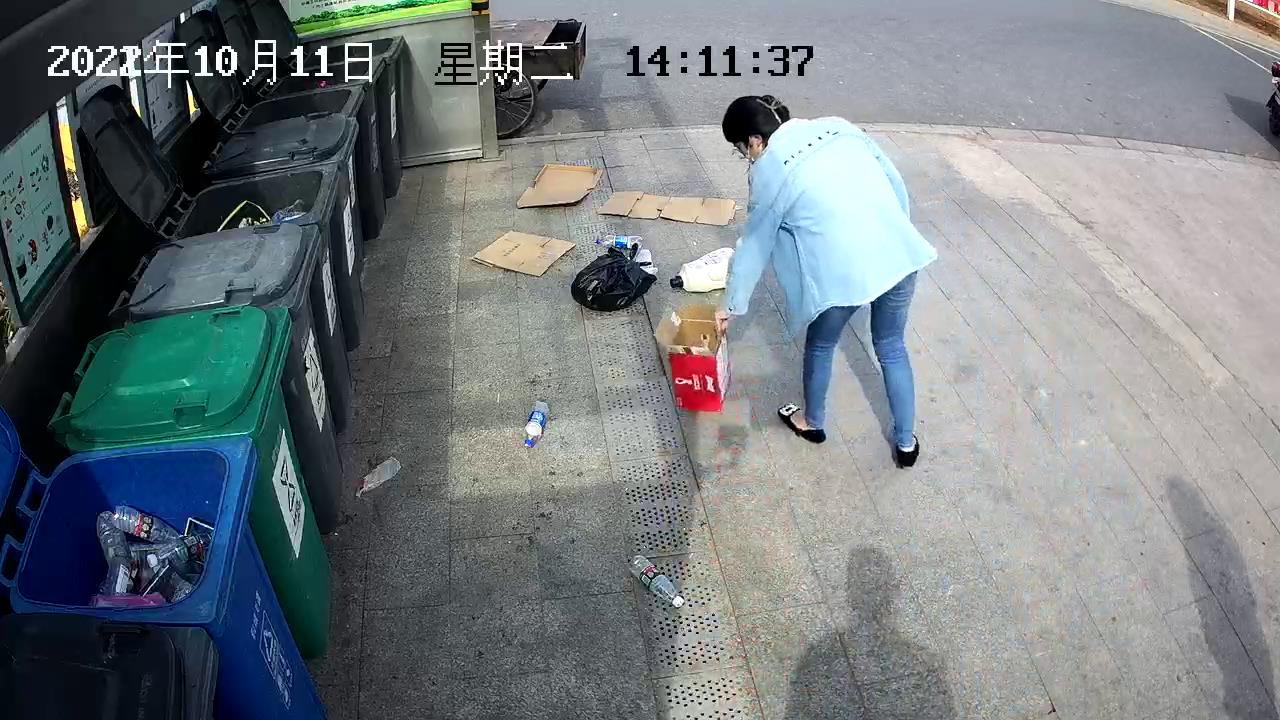garbage-bag: (569, 242, 660, 314)
suliaozhipin: (626, 551, 686, 611), (668, 245, 739, 294), (353, 452, 402, 497), (521, 395, 550, 449), (592, 231, 643, 252)
zhizhipin: (651, 301, 732, 414), (469, 226, 577, 279), (597, 189, 738, 227), (514, 161, 604, 210)
